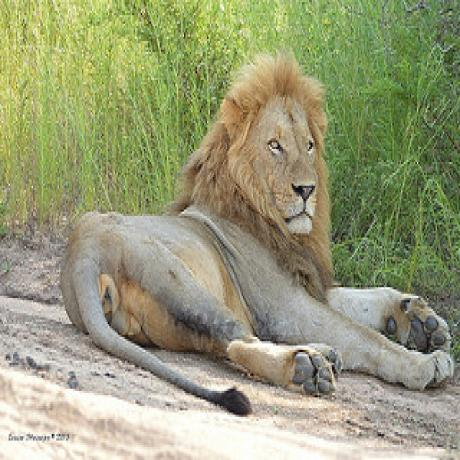Lion: (62, 46, 455, 416)
